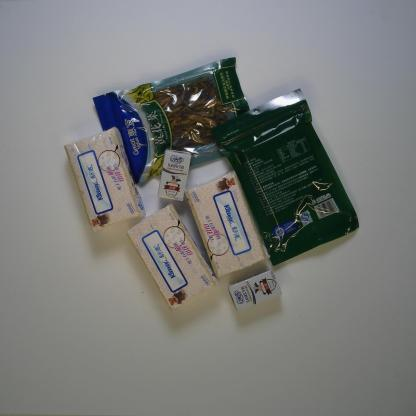Dried Food: (209, 85, 362, 268), (90, 54, 252, 188)
Milk: (225, 266, 283, 313), (158, 148, 192, 204)
Tissue: (126, 201, 214, 316), (183, 171, 270, 281), (63, 125, 147, 233)
